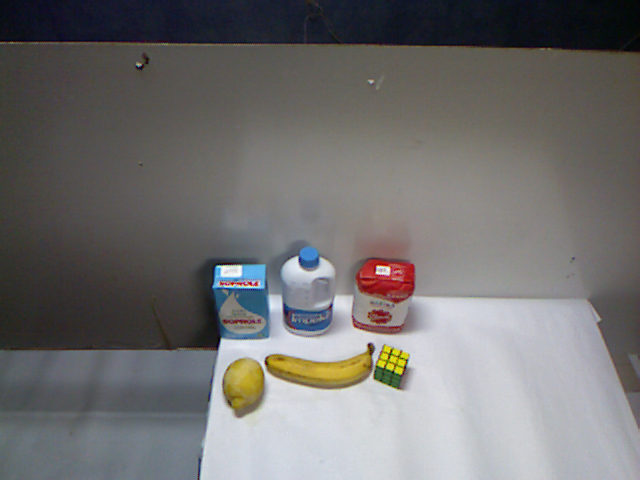aerosol: (228, 248, 275, 341)
cafe: (308, 279, 367, 352)
estuche: (211, 336, 295, 414)
jugoind: (268, 287, 304, 343)
linterna: (285, 340, 357, 407)
platoperro: (356, 320, 477, 426)
